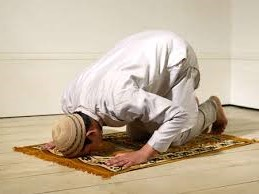sujud: (43, 31, 227, 165)
